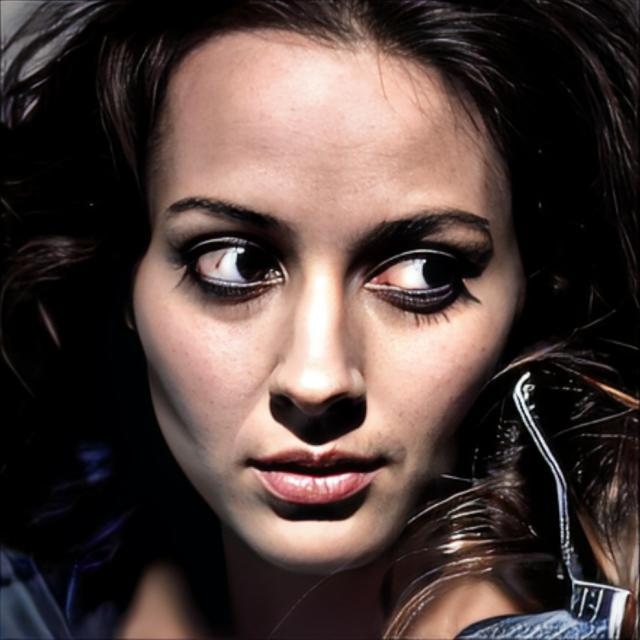fear: (131, 31, 531, 578)
